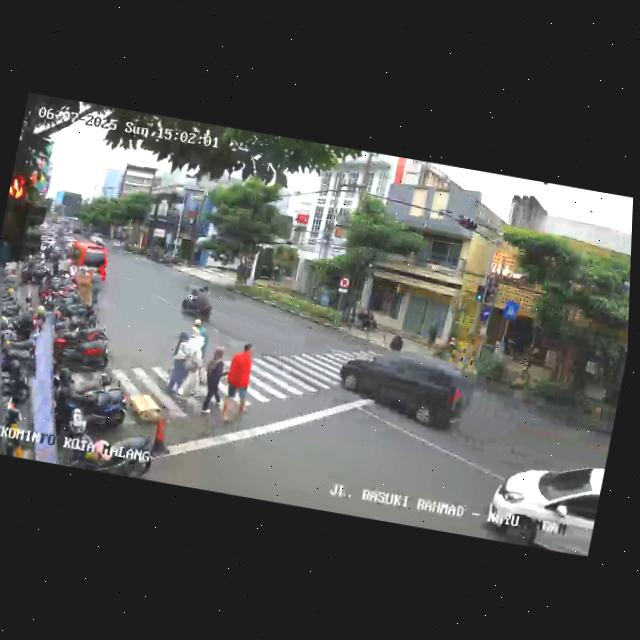car: (335, 345, 479, 436), (480, 455, 603, 557), (59, 236, 113, 289)
motorcycle: (178, 283, 217, 326)
person: (220, 340, 262, 426), (195, 342, 233, 418), (162, 329, 193, 400), (177, 333, 208, 398), (87, 267, 106, 306), (191, 317, 211, 337)
